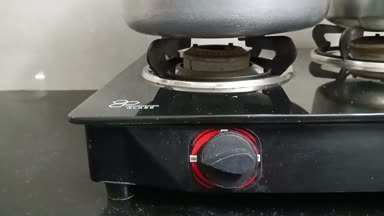noflame_gason: (135, 30, 308, 199)
